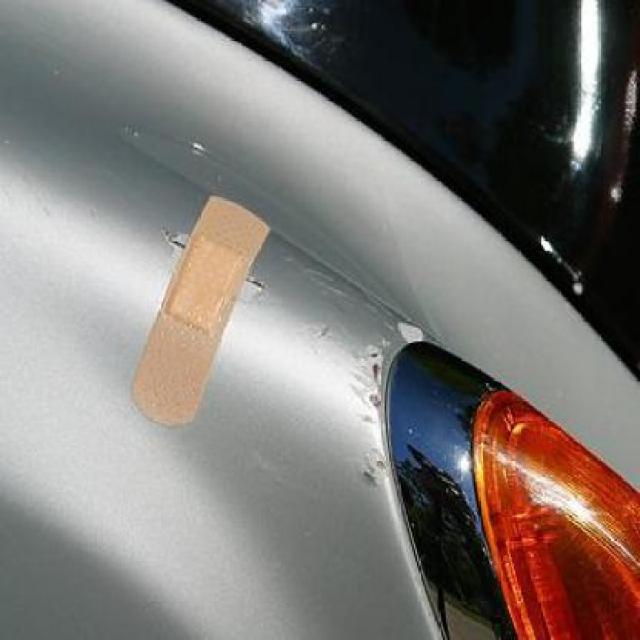scratch: (298, 256, 426, 516)
